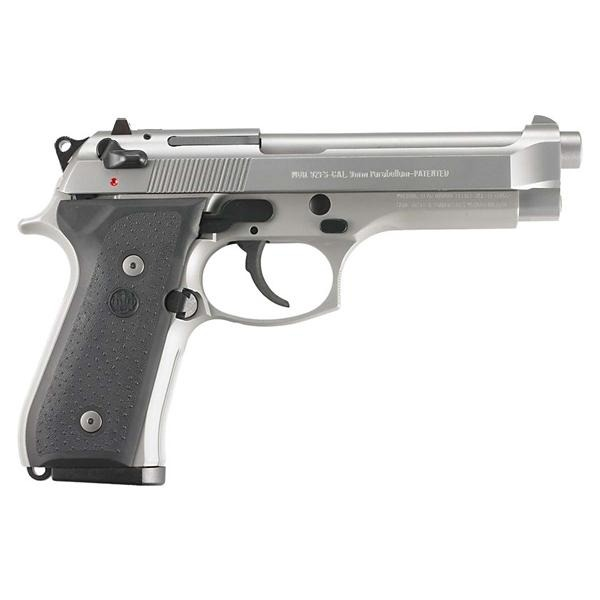gun: (17, 109, 585, 487)
